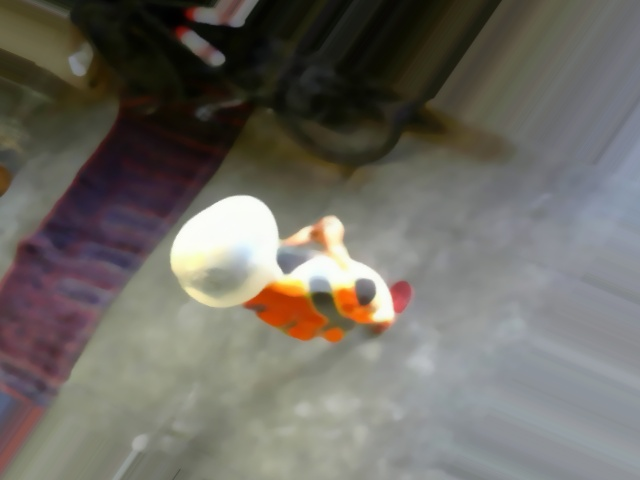eight: (179, 257, 237, 298)
